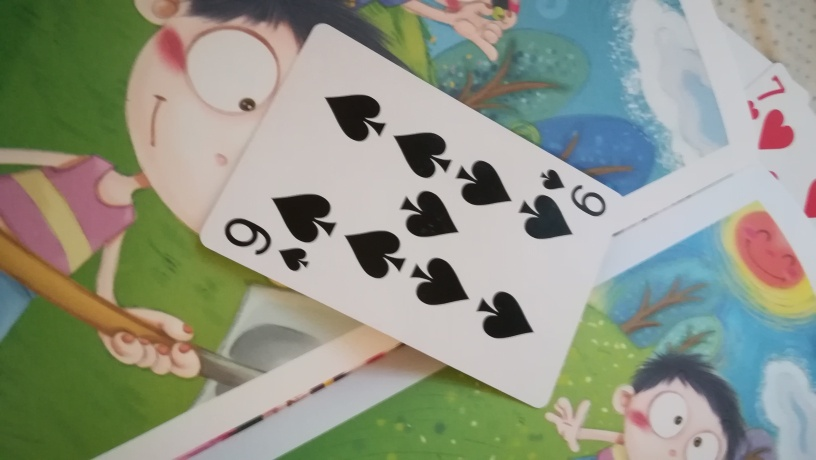ht 9: (197, 19, 624, 409)
